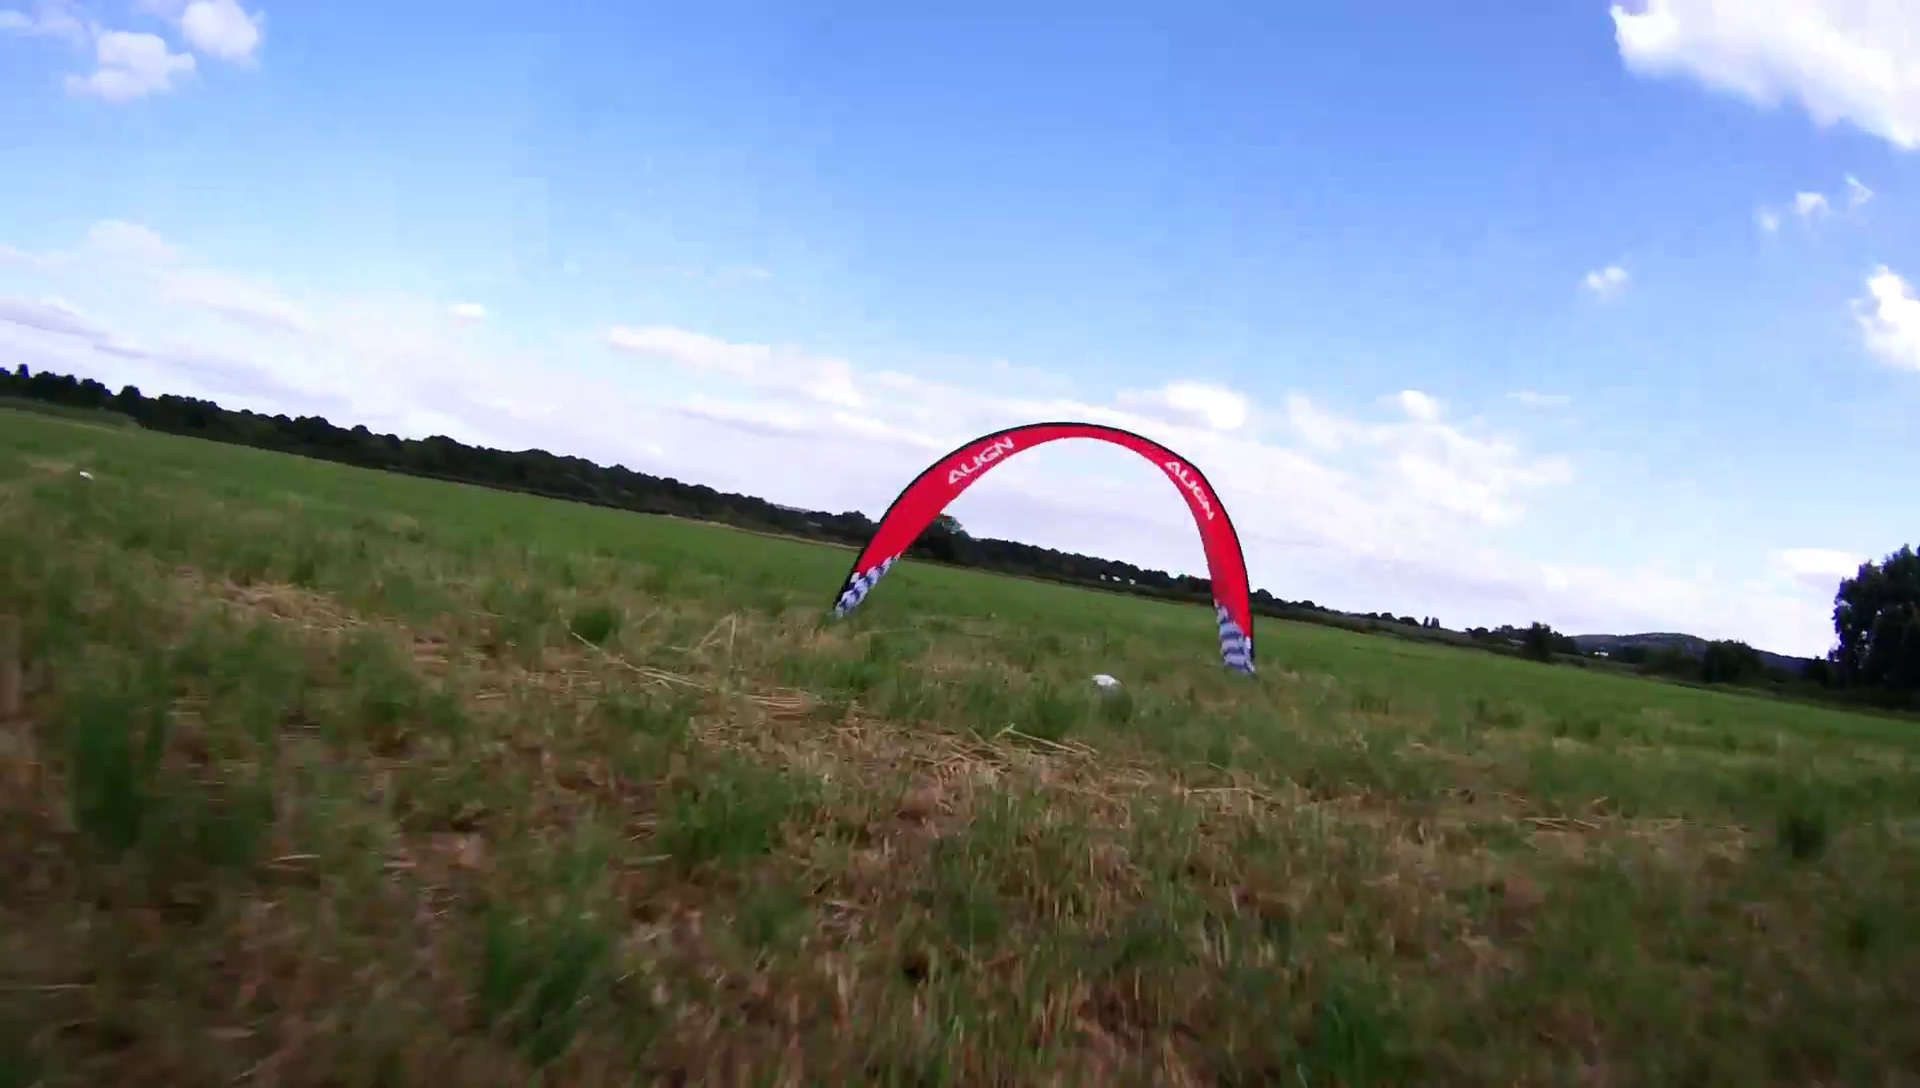gate: (827, 417, 1261, 677)
